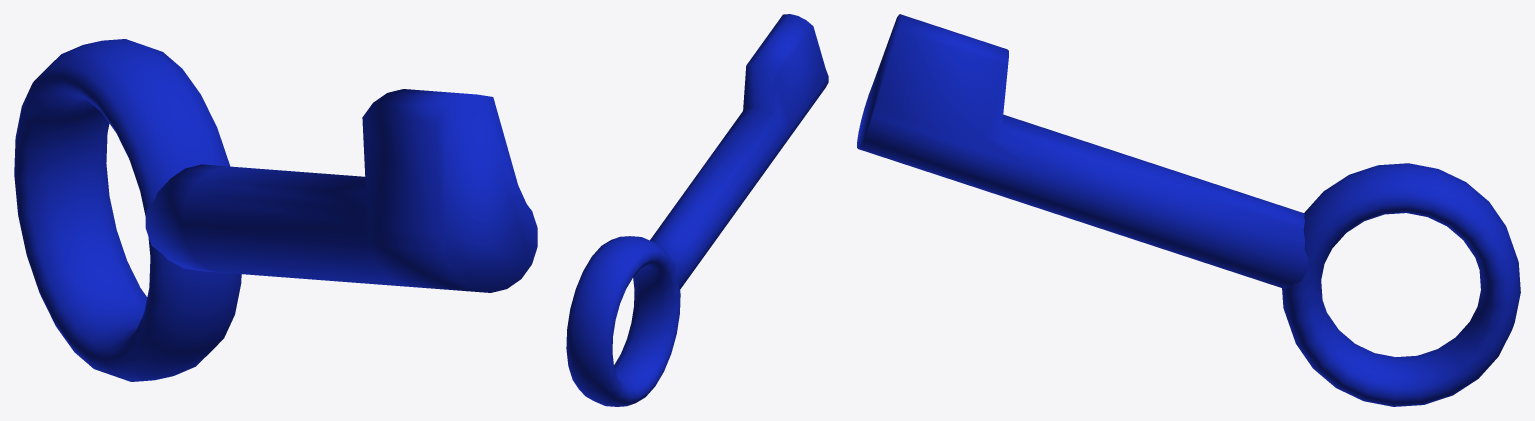
File: Key.fbx
3 renders of one model, left to right at view 1: azimuth 30°, elevation 25°; view 2: azimuth 150°, elevation 25°; view 3: azimuth 270°, elevation 25°, orthographic. The views are drawn at different scales.
Parts seen in each view (by area): view 1: Key; view 2: Key; view 3: Key.
Part boxes in pixels (x1,y1,x2,y2): Key: (14, 39, 537, 381); Key: (566, 14, 828, 406); Key: (857, 14, 1520, 406).
Size of the model in its own units: 0.0485 by 0.2593 by 0.4072.
